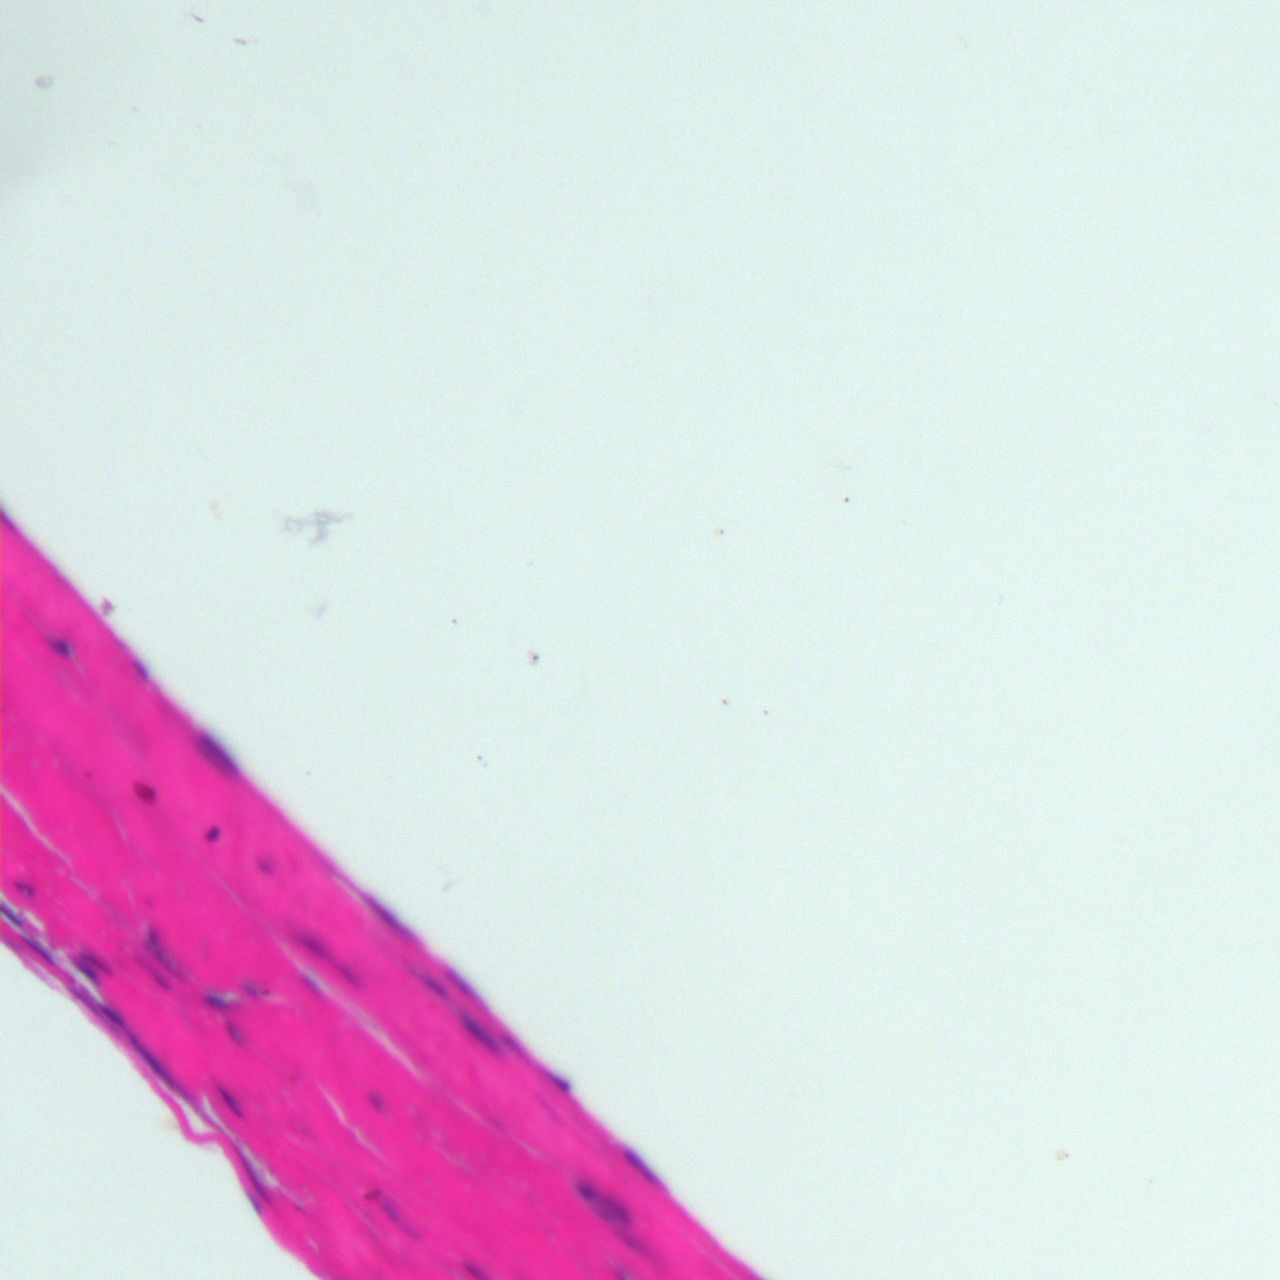nucleus-HE: (289, 923, 367, 993), (568, 1168, 637, 1237), (448, 1004, 512, 1064), (135, 923, 196, 981), (360, 892, 419, 947), (228, 1143, 276, 1209), (126, 1034, 177, 1089), (192, 726, 242, 781), (67, 943, 115, 989), (620, 1147, 662, 1189), (412, 967, 453, 1005), (210, 1079, 246, 1120), (19, 935, 60, 969), (95, 997, 132, 1034), (204, 991, 239, 1010), (44, 633, 74, 655), (202, 822, 221, 844), (13, 878, 33, 897), (227, 1020, 242, 1043)
